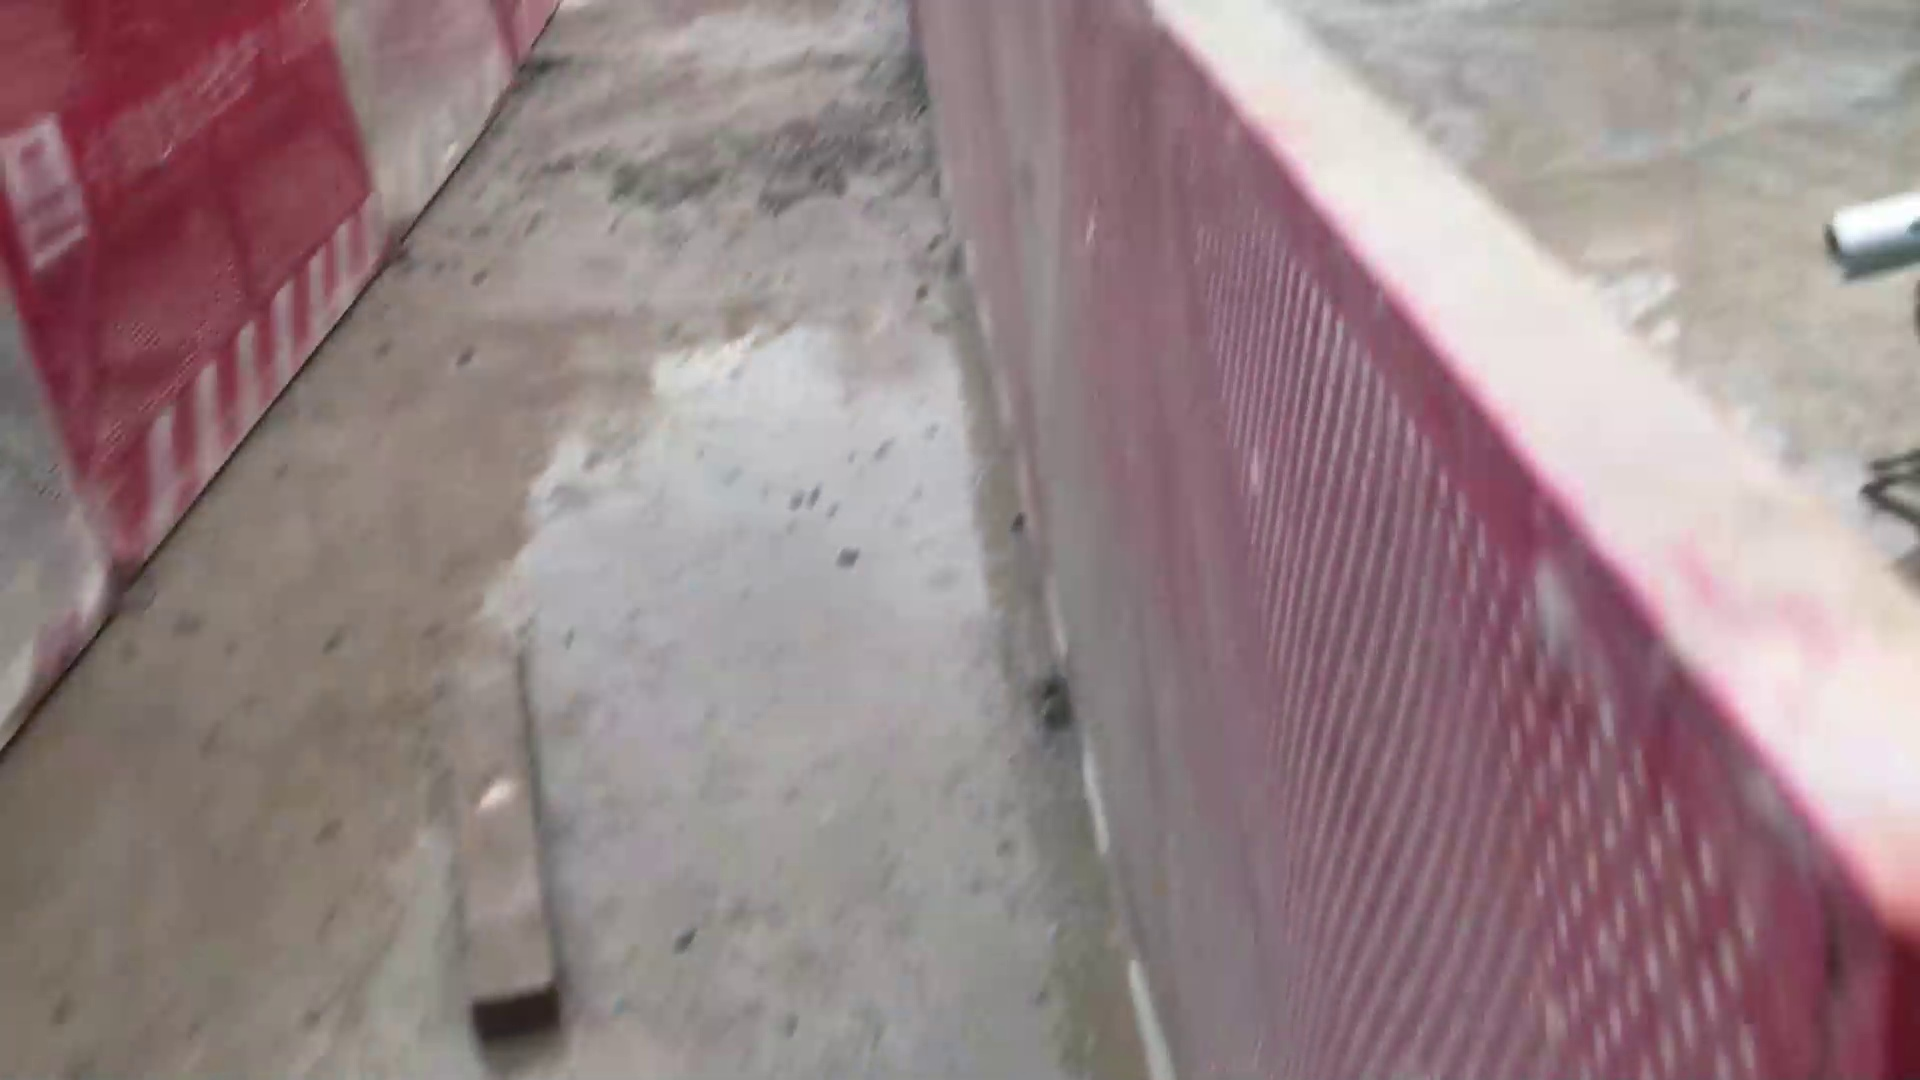fence: (1122, 18, 1920, 1046)
